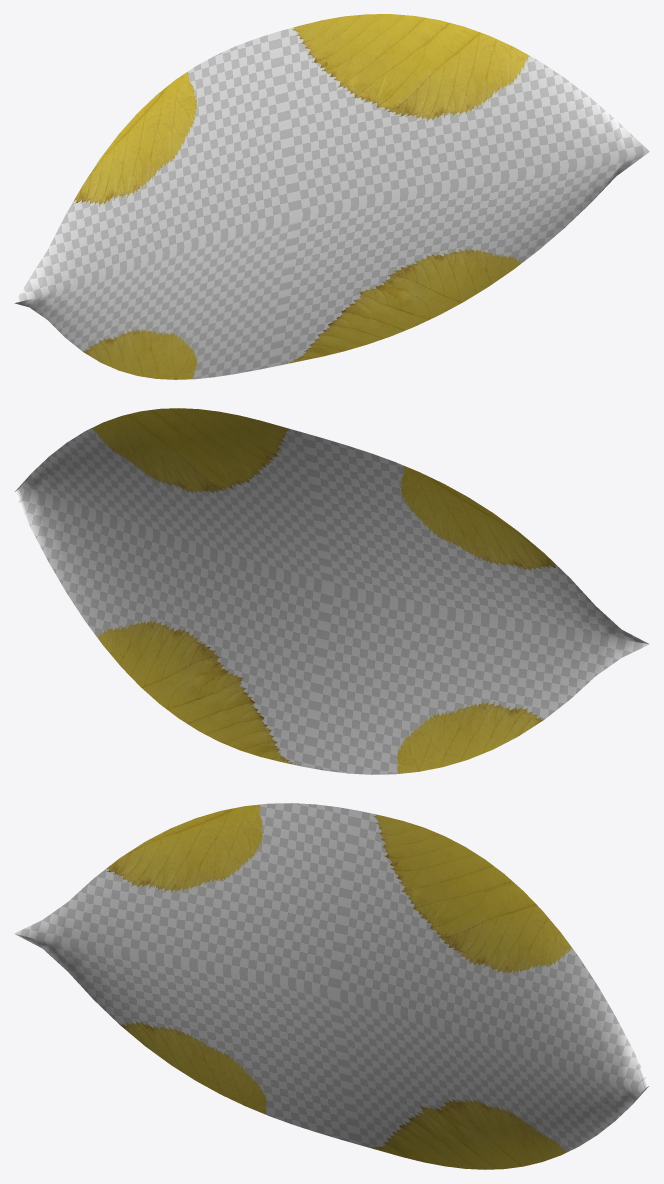
Rendered from zloty-lisc.fbx.
The picture shows the model from 3 angles, top to bottom: view 1: azimuth 30°, elevation 25°; view 2: azimuth 150°, elevation 25°; view 3: azimuth 330°, elevation 25°; orthographic projection.
Parts seen in each view (by area): view 1: Leaf_Generator; view 2: Leaf_Generator; view 3: Leaf_Generator.
Boxes of the visible parts, left/top/right/bottom form: Leaf_Generator: left=14, top=14, right=649, bottom=379; Leaf_Generator: left=14, top=408, right=649, bottom=774; Leaf_Generator: left=14, top=803, right=649, bottom=1169.
Size of the model in its own units: 190 by 96.67 by 23.28.
